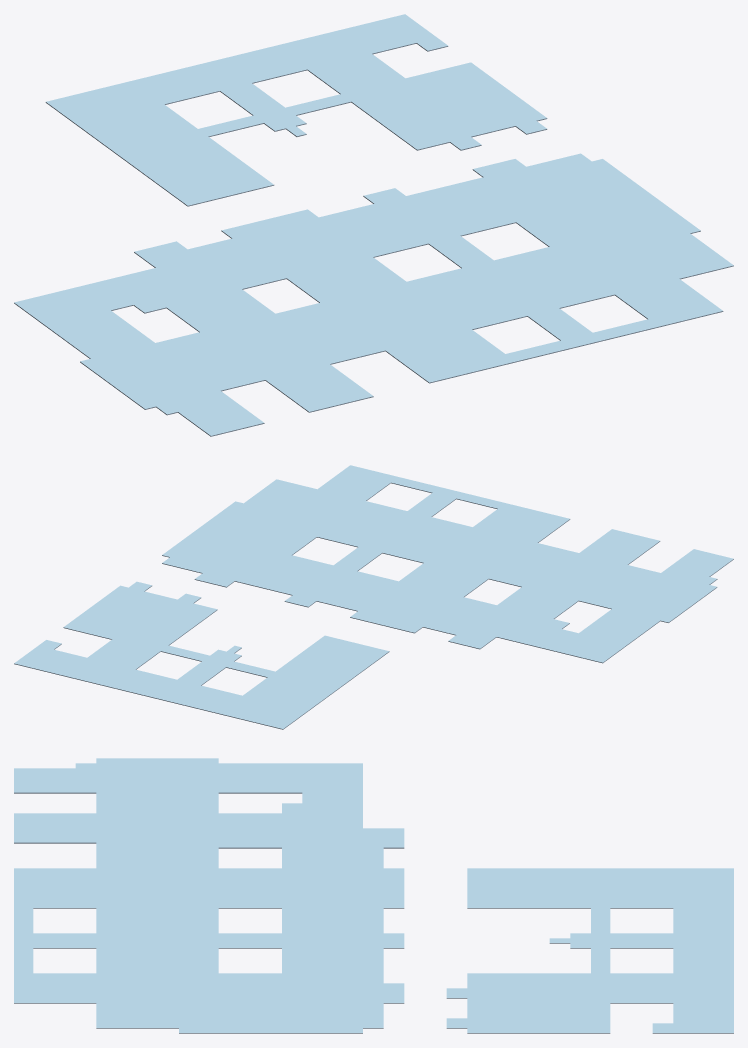
File: SM_MPR4_SolarBank_00_0_LOD2.fbx
The picture shows the model from 3 angles, top to bottom: view 1: azimuth 30°, elevation 25°; view 2: azimuth 150°, elevation 25°; view 3: azimuth 270°, elevation 25°; orthographic projection. The views are drawn at different scales.
Visible parts, largest first — view 1: SM_MPR4_SolarBank_00_0_LOD2; view 2: SM_MPR4_SolarBank_00_0_LOD2; view 3: SM_MPR4_SolarBank_00_0_LOD2.
Boxes of the visible parts, left/top/right/bottom form: SM_MPR4_SolarBank_00_0_LOD2: left=14, top=14, right=733, bottom=436; SM_MPR4_SolarBank_00_0_LOD2: left=14, top=465, right=733, bottom=729; SM_MPR4_SolarBank_00_0_LOD2: left=14, top=758, right=733, bottom=1033.
Size of the model in its own units: 6149 by 6813 by 8.6.
